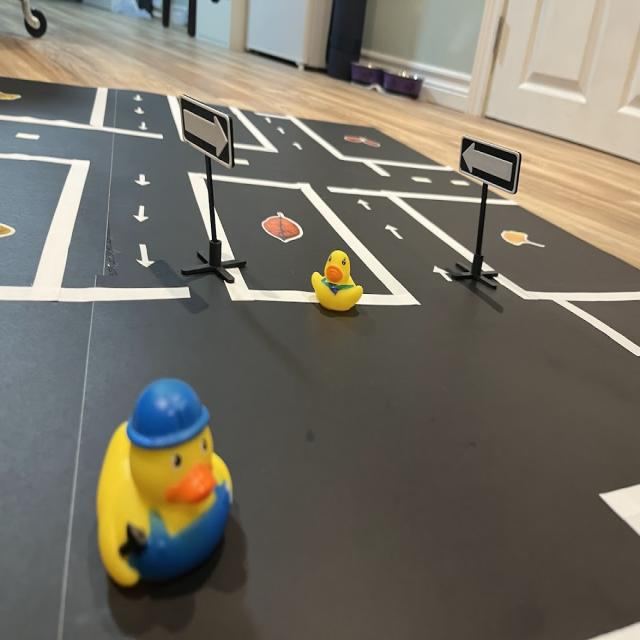duck_regular: (312, 250, 366, 317)
duck_specialty: (96, 380, 235, 597)
road_oneway: (136, 241, 158, 273), (431, 261, 454, 288), (386, 220, 408, 245), (130, 200, 151, 226), (355, 199, 377, 215), (135, 170, 151, 191), (291, 140, 307, 156), (276, 125, 288, 140), (134, 93, 145, 105), (136, 106, 146, 118), (140, 120, 150, 132)
sign_oneway_left: (461, 138, 523, 196)
sign_oneway_right: (174, 100, 237, 168)
